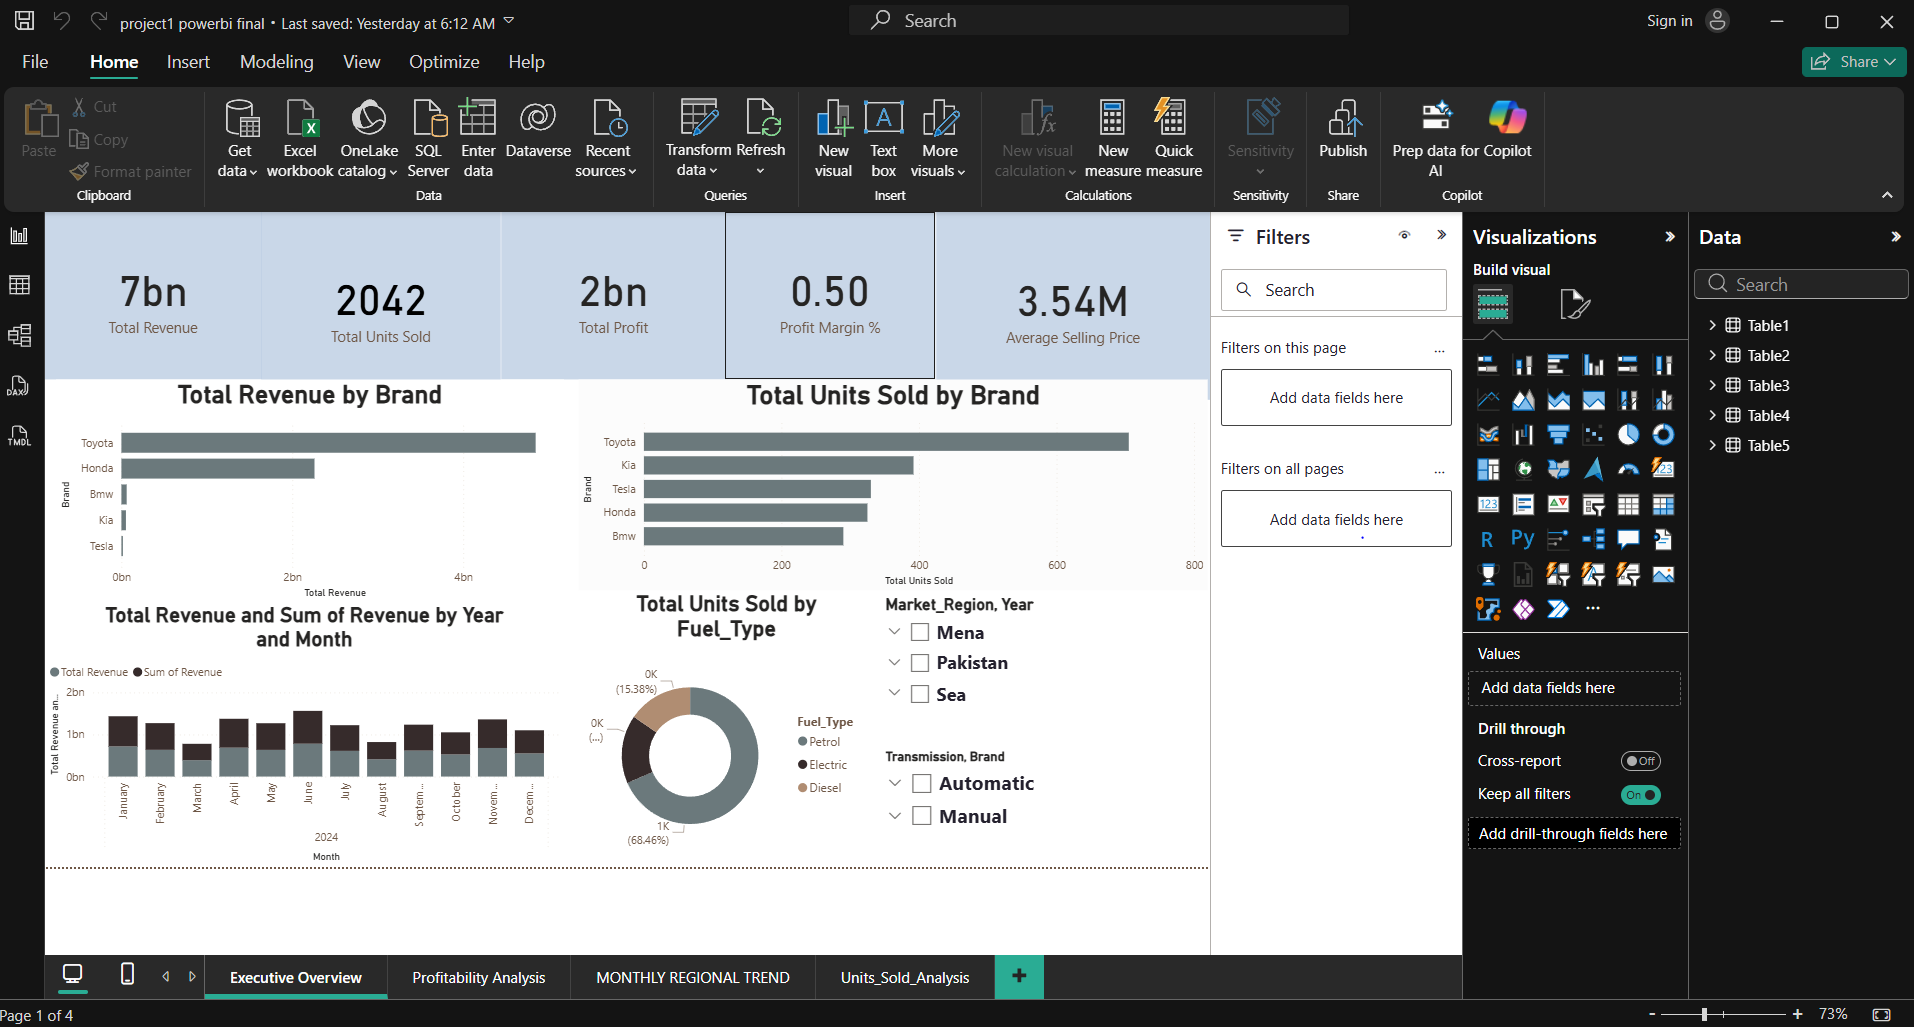

The page's visual inventory and layout, read from the dashboard file:
{"tool":"powerbi","page":{"name":"Executive Overview","canvas":[1280,720],"ordinal":0},"visuals":[{"type":"card","fields":{"Values":["Table1.Total Revenue"]},"box":[0,0,238.1,184.2],"z":0},{"type":"card","fields":{"Values":["Table1.Total Units Sold"]},"box":[238.1,0,263.5,205.1],"z":1000},{"type":"card","fields":{"Values":["Table1.Total profit"]},"box":[501.6,0,247.1,184.2],"z":2000},{"type":"card","fields":{"Values":["Table1.Profit Margin %"]},"box":[747.7,0,231,184.2],"z":3000},{"type":"card","fields":{"Values":["Table1.Average Selling Price"]},"box":[978.1,0,302.2,184.1],"z":4000},{"type":"clusteredBarChart","fields":{"Category":["Table3.Brand"],"Y":["Table1.Total Revenue"]},"box":[12.8,183.9,557.5,245.2],"z":5000},{"type":"lineStackedColumnComboChart","fields":{"Y":["Table1.Total Revenue","Sum(Table1.Revenue)"],"Category":["Table1.Sale_Date.Variation.Date Hierarchy.Year","Table1.Sale_Date.Variation.Date Hierarchy.Month"]},"box":[0,429.1,570.3,290.8],"z":6000},{"type":"clusteredBarChart","fields":{"Category":["Table3.Brand"],"Y":["Table1.Total Units Sold"]},"box":[586,183.9,691.5,232.4],"z":7000},{"type":"donutChart","fields":{"Category":["Table3.Fuel_Type"],"Y":["Table1.Total Units Sold"]},"box":[586,416.3,325.1,303.7],"z":8000},{"type":"slicer","fields":{"Values":["Table2.Market_Region","Table1.Sale_Date.Variation.Date Hierarchy.Year"]},"box":[910.4,416.3,366.9,169.2],"z":9000},{"type":"slicer","fields":{"Values":["Table3.Transmission","Table3.Brand"]},"box":[910.4,585.5,366.9,134.8],"z":10000}]}

Visuals, with their boxes on the page's 1280x720 design canvas (x1, y1, x2, y2). These are canvas units, not pixel positions in the 1914x1027 screenshot, which may show the page scaled, cropped or inside an application window:
card - Table1.Total Revenue: (left=0, top=0, right=238, bottom=184)
card - Table1.Total Units Sold: (left=238, top=0, right=502, bottom=205)
card - Table1.Total profit: (left=502, top=0, right=749, bottom=184)
card - Table1.Profit Margin %: (left=748, top=0, right=979, bottom=184)
card - Table1.Average Selling Price: (left=978, top=0, right=1280, bottom=184)
clusteredBarChart - Table3.Brand x Table1.Total Revenue: (left=13, top=184, right=570, bottom=429)
lineStackedColumnComboChart - Table1.Total Revenue x Sum(Table1.Revenue): (left=0, top=429, right=570, bottom=720)
clusteredBarChart - Table3.Brand x Table1.Total Units Sold: (left=586, top=184, right=1278, bottom=416)
donutChart - Table3.Fuel_Type x Table1.Total Units Sold: (left=586, top=416, right=911, bottom=720)
slicer - Table2.Market_Region x Table1.Sale_Date.Variation.Date Hierarchy.Year: (left=910, top=416, right=1277, bottom=586)
slicer - Table3.Transmission x Table3.Brand: (left=910, top=586, right=1277, bottom=720)
